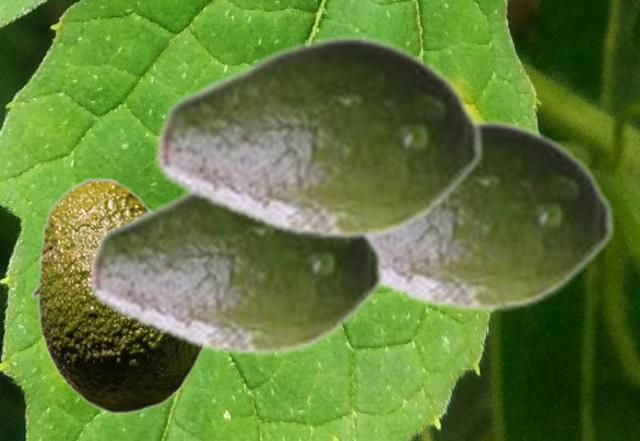avocado: (154, 33, 484, 241), (87, 189, 385, 357), (375, 118, 615, 313), (30, 177, 205, 413)
